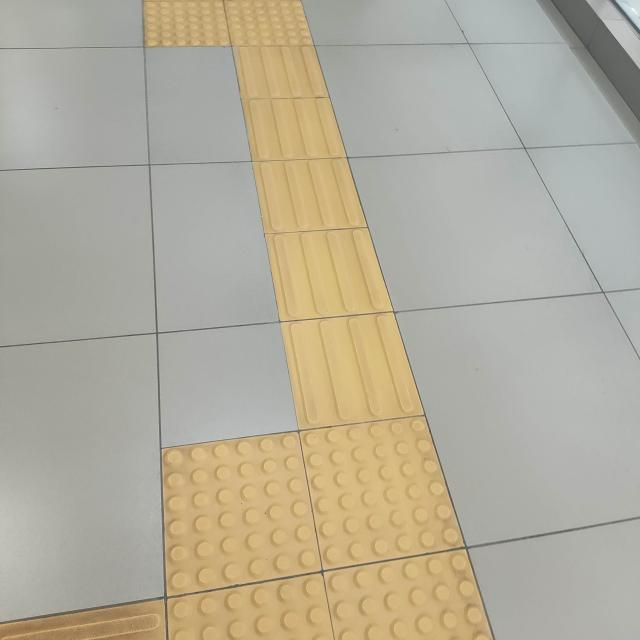lurus: (216, 48, 430, 424)
